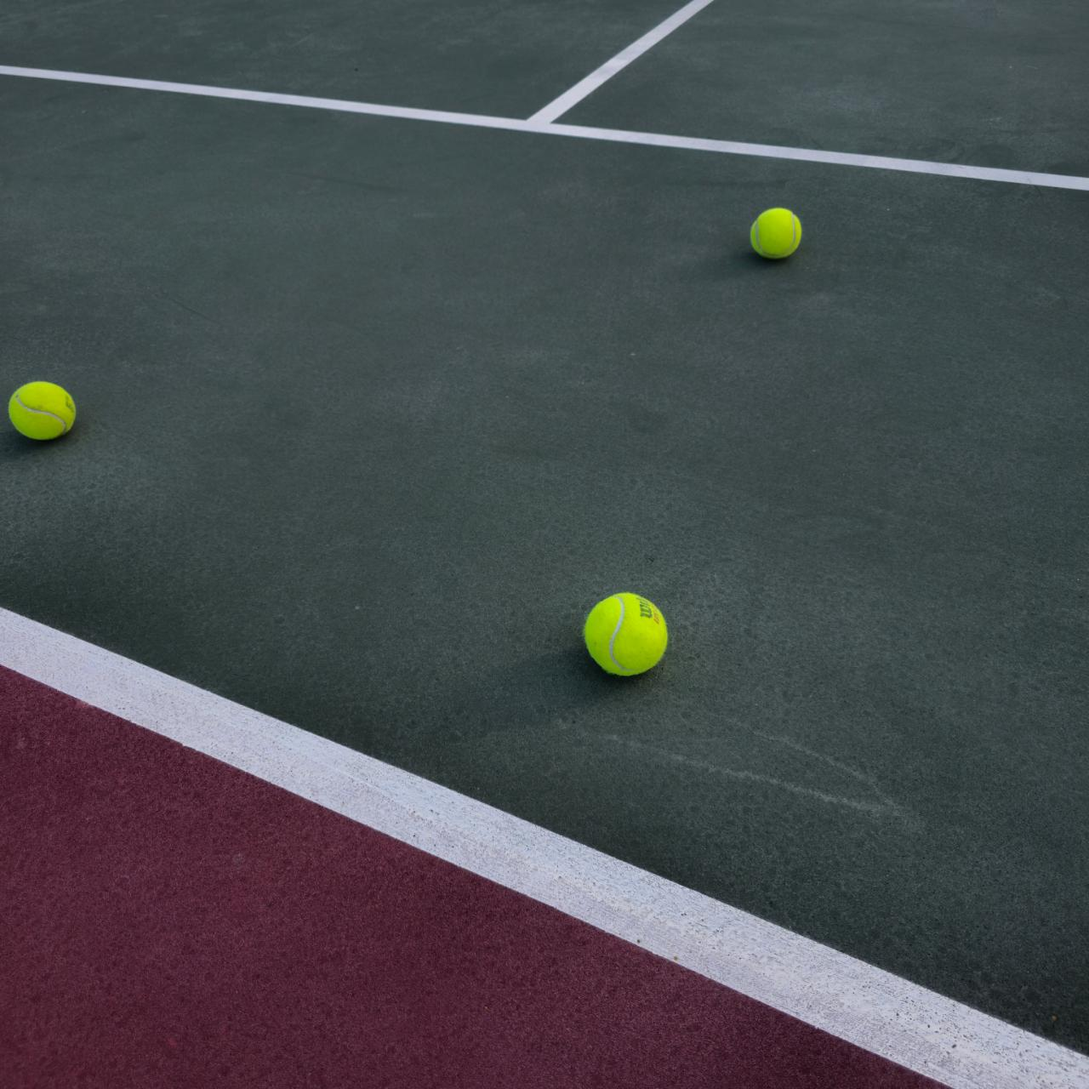tennis-ball: (581, 588, 670, 678), (7, 378, 77, 442), (747, 204, 803, 259)
